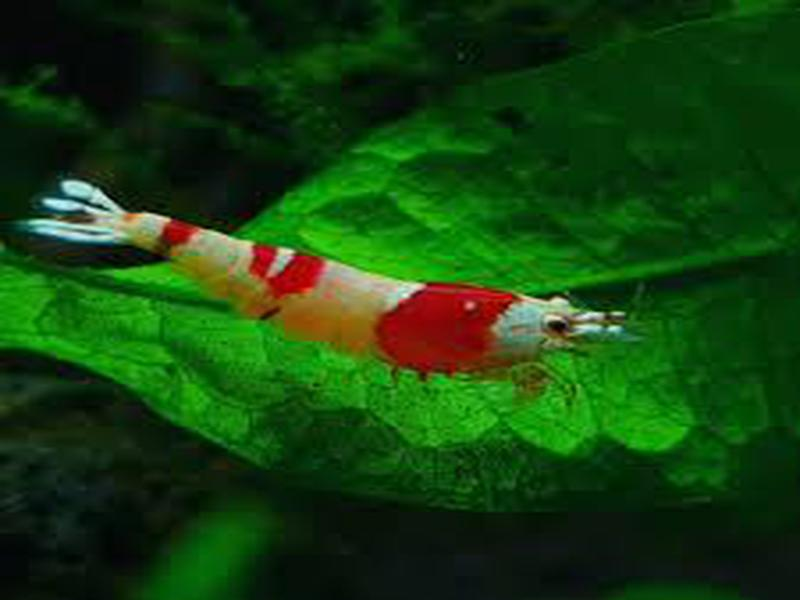shrimp: (18, 174, 626, 382)
